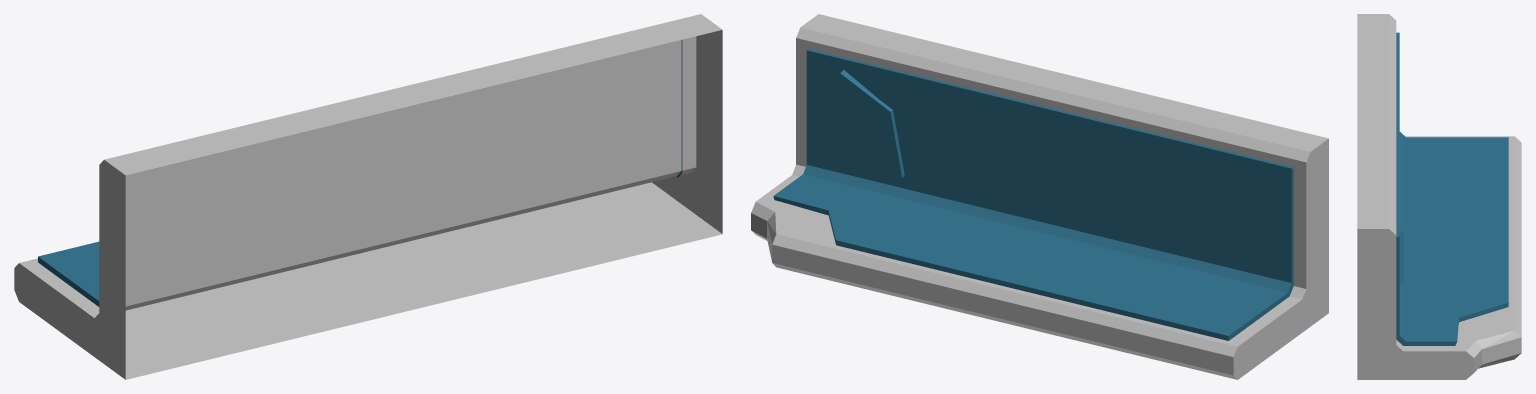
Rendered from Bench 02.FBX.
3 renders of one model, left to right at view 1: azimuth 30°, elevation 25°; view 2: azimuth 150°, elevation 25°; view 3: azimuth 270°, elevation 25°, orthographic. The views are drawn at different scales.
Visible parts, largest first — view 1: Bench 02; view 2: Bench 02; view 3: Bench 02.
Boxes of the visible parts, <box> form: Bench 02: <box>14,14,722,379</box>; Bench 02: <box>751,14,1328,379</box>; Bench 02: <box>1357,14,1521,379</box>.
Size of the model in its own units: 244 by 79.87 by 78.93.
